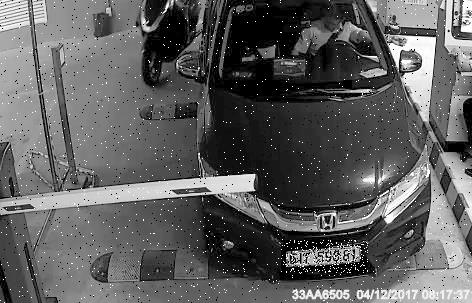License-plate: (283, 242, 370, 275)
